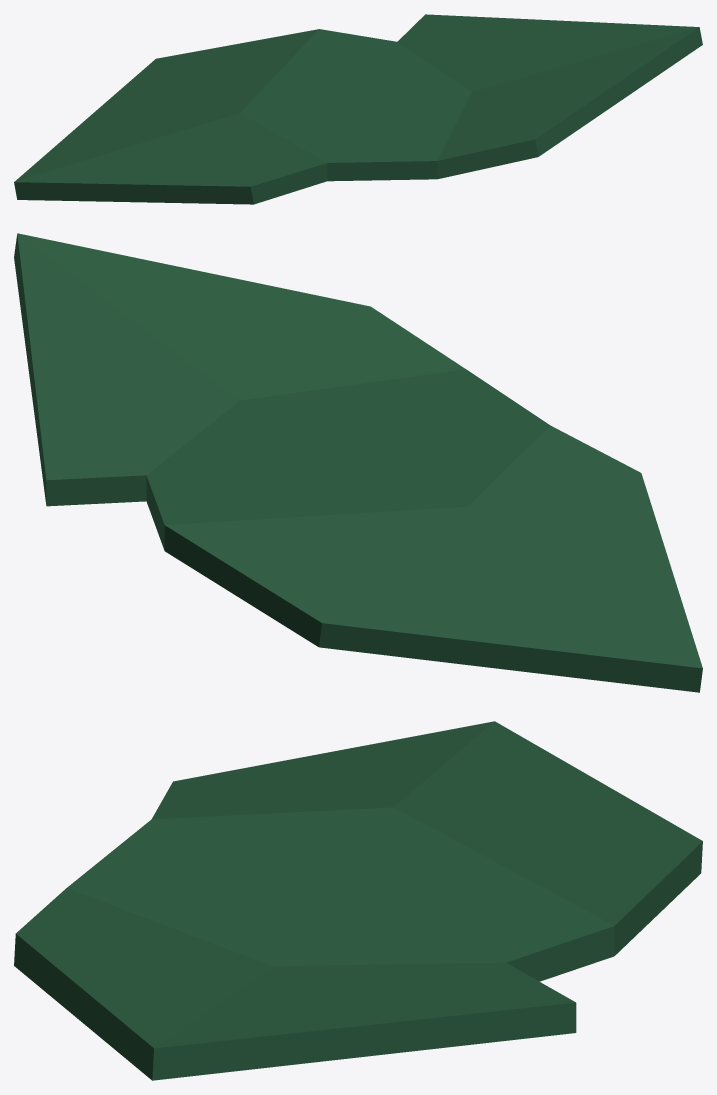
The model's file is folha.fbx.
The picture shows the model from 3 angles, top to bottom: view 1: azimuth 30°, elevation 25°; view 2: azimuth 150°, elevation 25°; view 3: azimuth 270°, elevation 25°; orthographic projection. The views are drawn at different scales.
Visible parts, largest first — view 1: Cube.006; view 2: Cube.006; view 3: Cube.006.
Boxes of the visible parts, x1,y1,x2,y2 form: Cube.006: [14, 14, 702, 204]; Cube.006: [14, 233, 702, 692]; Cube.006: [14, 721, 702, 1080].
Size of the model in its own units: 318 by 54.88 by 195.
